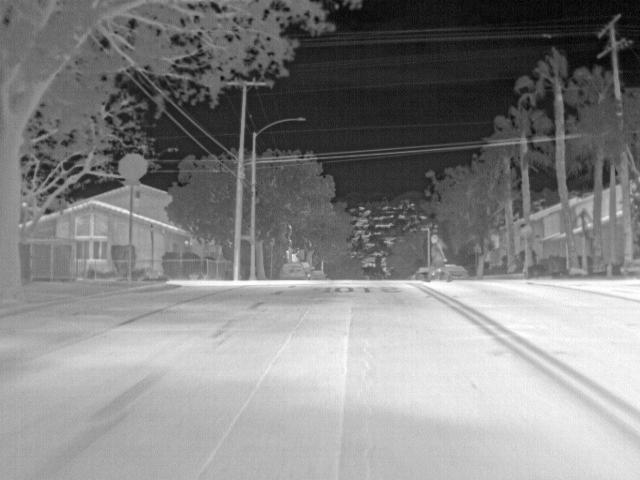car: (279, 260, 308, 280), (447, 260, 469, 278), (412, 264, 431, 280), (308, 268, 328, 281)
person: (431, 233, 447, 282)
